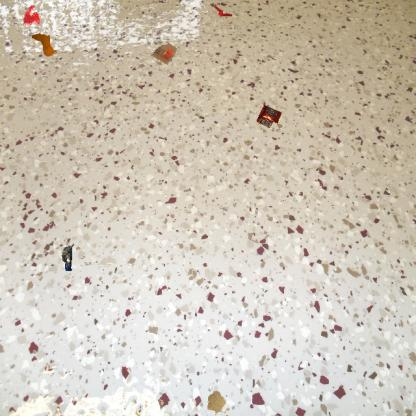dirty: (254, 102, 284, 131), (149, 40, 180, 67), (30, 31, 60, 58), (61, 243, 74, 271), (212, 5, 232, 16)
liquid: (206, 390, 230, 415), (22, 4, 42, 27)
